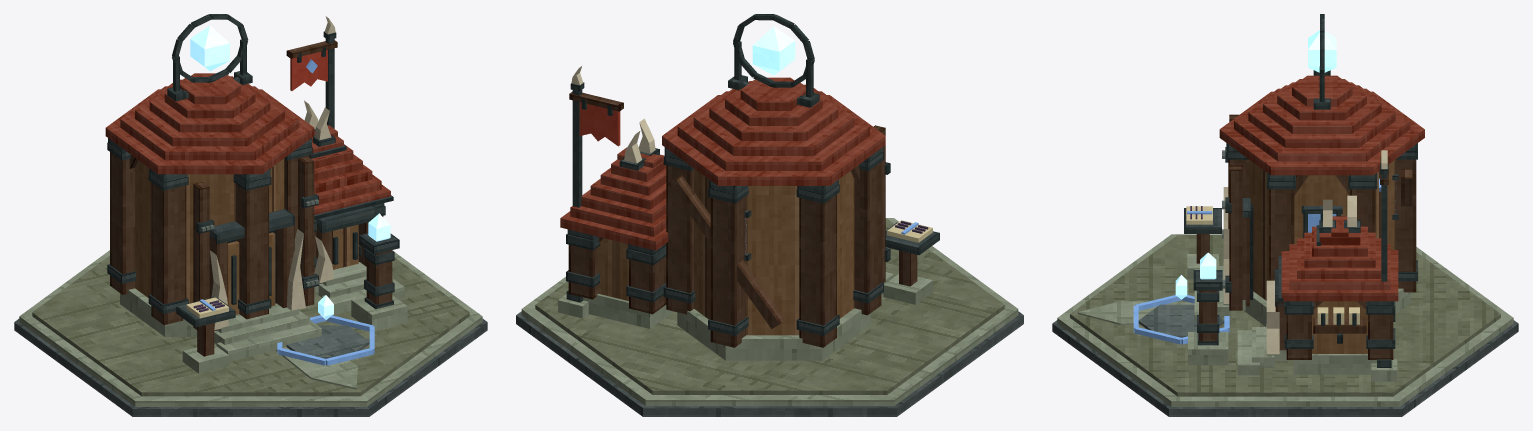
Rendered from orc_arcane_conclave_hex_v1.glb.
3 renders of one model, left to right at view 1: azimuth 30°, elevation 25°; view 2: azimuth 150°, elevation 25°; view 3: azimuth 270°, elevation 25°, orthographic. The views are drawn at different scales.
Parts seen in each view (by area): view 1: Orc_Arcane_Conclave_Hex_V1_Foundation, Orc_Arcane_Conclave_Hex_V1_Hall, Orc_Arcane_Conclave_Hex_V1_Roofs, Orc_Arcane_Conclave_Hex_V1_Details, Orc_Arcane_Conclave_Hex_V1_Focus, Orc_Arcane_Conclave_Hex_V1_Courtyard, Orc_Arcane_Conclave_Hex_V1_Training, Orc_Arcane_Conclave_Hex_V1_Faction; view 2: Orc_Arcane_Conclave_Hex_V1_Hall, Orc_Arcane_Conclave_Hex_V1_Foundation, Orc_Arcane_Conclave_Hex_V1_Roofs, Orc_Arcane_Conclave_Hex_V1_Details, Orc_Arcane_Conclave_Hex_V1_Focus, Orc_Arcane_Conclave_Hex_V1_Faction, Orc_Arcane_Conclave_Hex_V1_Training; view 3: Orc_Arcane_Conclave_Hex_V1_Foundation, Orc_Arcane_Conclave_Hex_V1_Roofs, Orc_Arcane_Conclave_Hex_V1_Hall, Orc_Arcane_Conclave_Hex_V1_Details, Orc_Arcane_Conclave_Hex_V1_Training, Orc_Arcane_Conclave_Hex_V1_Focus, Orc_Arcane_Conclave_Hex_V1_Courtyard, Orc_Arcane_Conclave_Hex_V1_Faction.
Part boxes in pixels (x1,y1,x2,y2): Orc_Arcane_Conclave_Hex_V1_Foundation: (14,250,487,416); Orc_Arcane_Conclave_Hex_V1_Hall: (107,142,385,336); Orc_Arcane_Conclave_Hex_V1_Roofs: (105,73,393,219); Orc_Arcane_Conclave_Hex_V1_Details: (108,100,384,330); Orc_Arcane_Conclave_Hex_V1_Focus: (167,14,407,330); Orc_Arcane_Conclave_Hex_V1_Courtyard: (214,262,404,389); Orc_Arcane_Conclave_Hex_V1_Training: (176,295,374,373); Orc_Arcane_Conclave_Hex_V1_Faction: (286,16,337,128); Orc_Arcane_Conclave_Hex_V1_Hall: (566,151,883,360); Orc_Arcane_Conclave_Hex_V1_Foundation: (516,218,1023,416); Orc_Arcane_Conclave_Hex_V1_Roofs: (560,77,885,250); Orc_Arcane_Conclave_Hex_V1_Details: (567,118,890,328); Orc_Arcane_Conclave_Hex_V1_Focus: (728,14,819,107); Orc_Arcane_Conclave_Hex_V1_Faction: (558,66,623,318); Orc_Arcane_Conclave_Hex_V1_Training: (883,220,939,304); Orc_Arcane_Conclave_Hex_V1_Foundation: (1052,234,1518,416); Orc_Arcane_Conclave_Hex_V1_Roofs: (1219,75,1424,301); Orc_Arcane_Conclave_Hex_V1_Hall: (1226,143,1417,374); Orc_Arcane_Conclave_Hex_V1_Details: (1222,114,1417,354); Orc_Arcane_Conclave_Hex_V1_Training: (1133,206,1366,344); Orc_Arcane_Conclave_Hex_V1_Focus: (1188,14,1336,365); Orc_Arcane_Conclave_Hex_V1_Courtyard: (1077,262,1288,375); Orc_Arcane_Conclave_Hex_V1_Faction: (1371,150,1397,381).
Size of the model in its own units: 1.59 by 1.32 by 1.84.
Materials: 1 (1 with a texture image).
